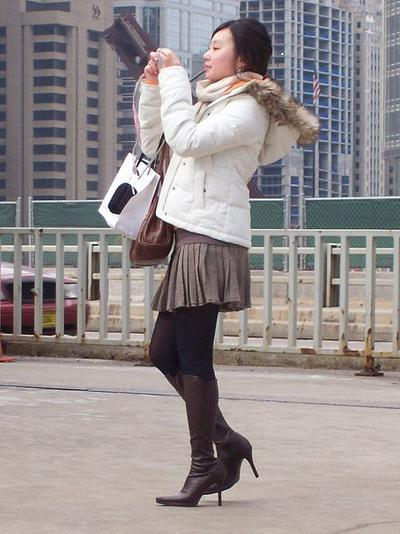person: (138, 20, 273, 509)
